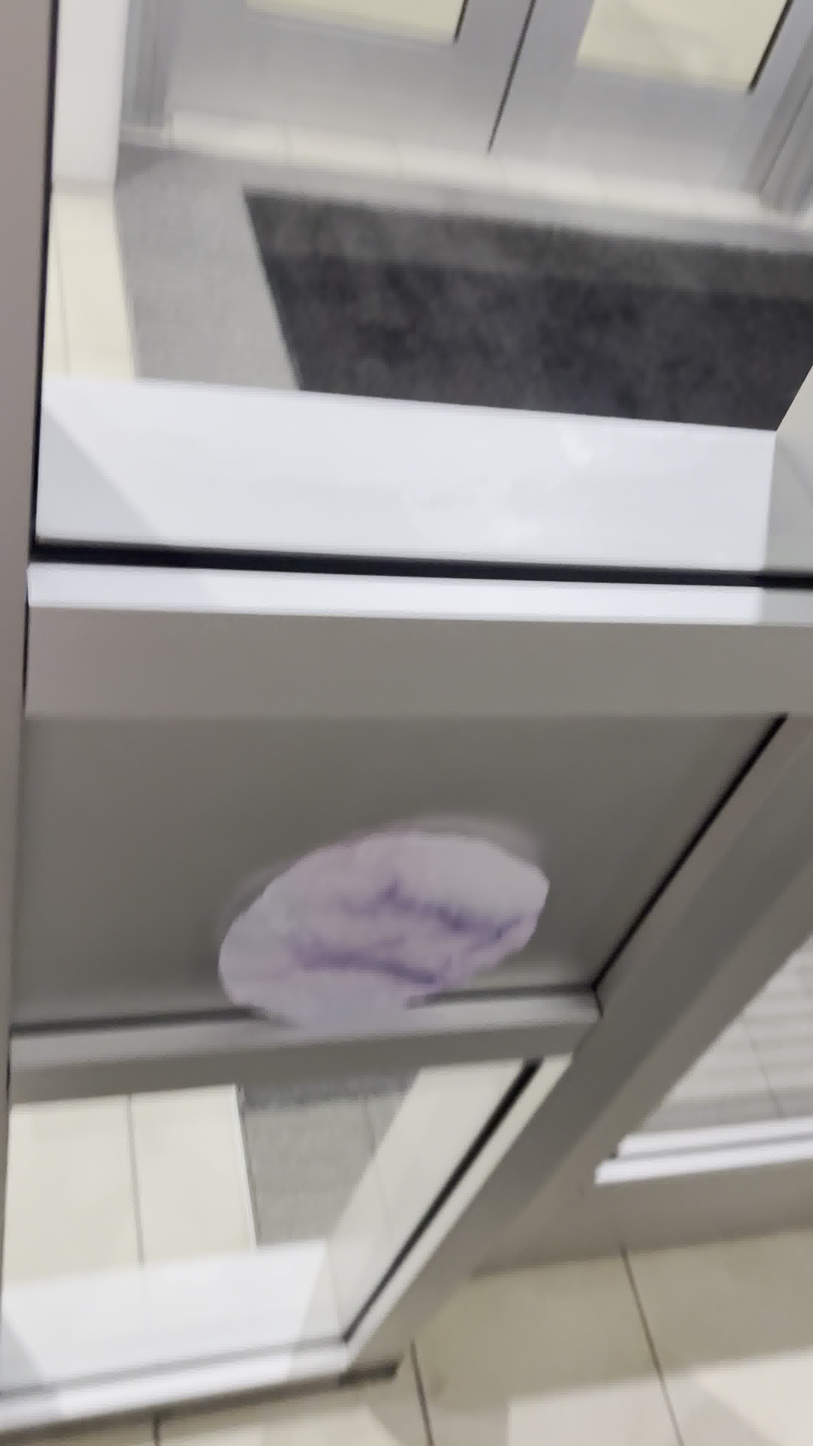Target: (212, 816, 559, 1036)
